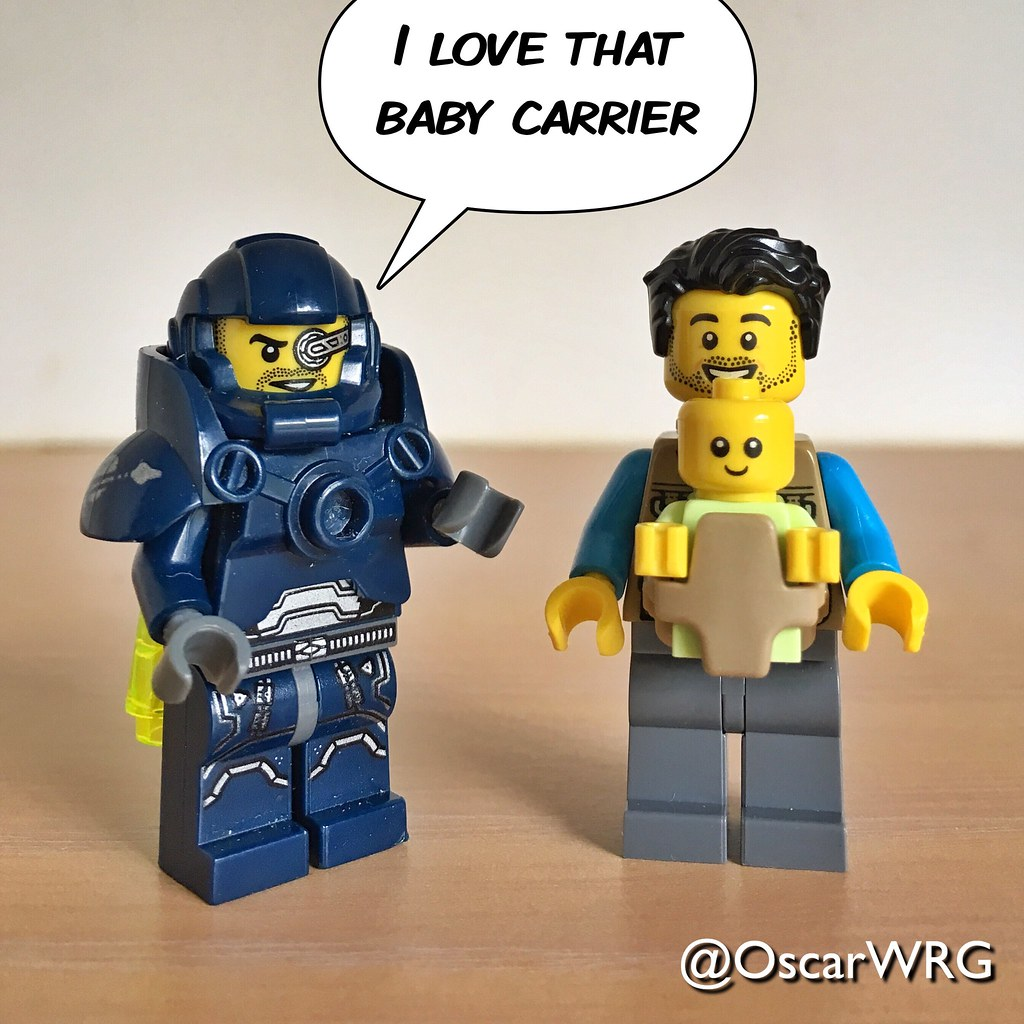lego: (71, 225, 529, 909), (557, 220, 935, 900), (629, 384, 847, 683)
